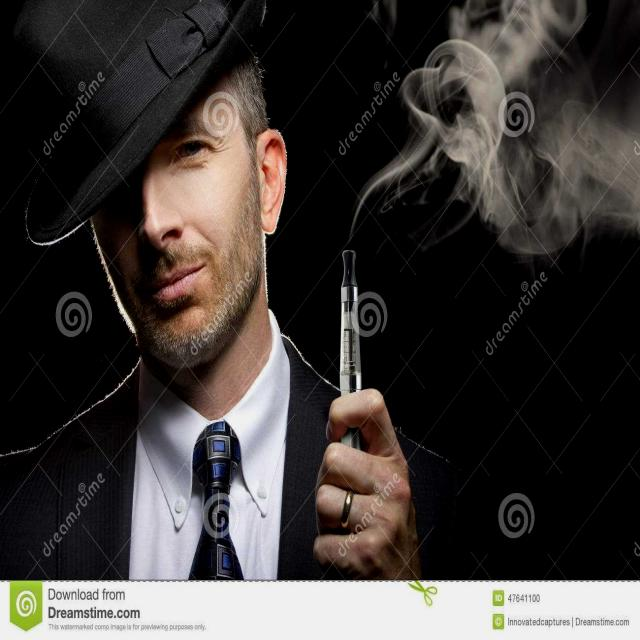Smooking: (328, 244, 385, 458)
